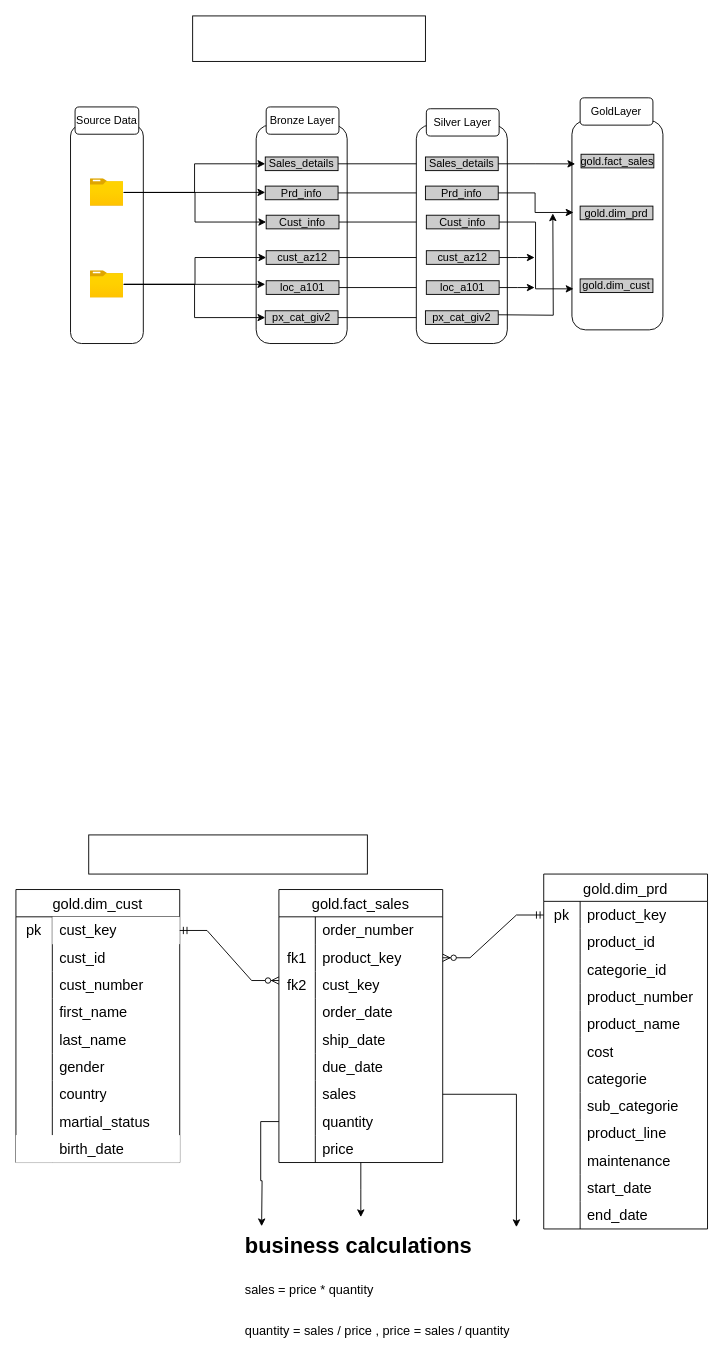
Image size: 723x1364. Some labels were removed from this diagram. Here are the shapes that lost their labels. From the top down, the centre of each, then its label:
At (x=308, y=38): "Flow Diagram".
At (x=106, y=192): "crm".
At (x=106, y=284): "Erp".
At (x=227, y=854): "sales data Mart".
